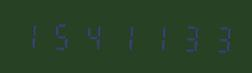five: (48, 18, 78, 52)
four: (79, 19, 109, 52)
one: (110, 19, 140, 53), (17, 18, 47, 51), (141, 20, 171, 53)
three: (172, 20, 202, 54), (203, 21, 233, 54)
